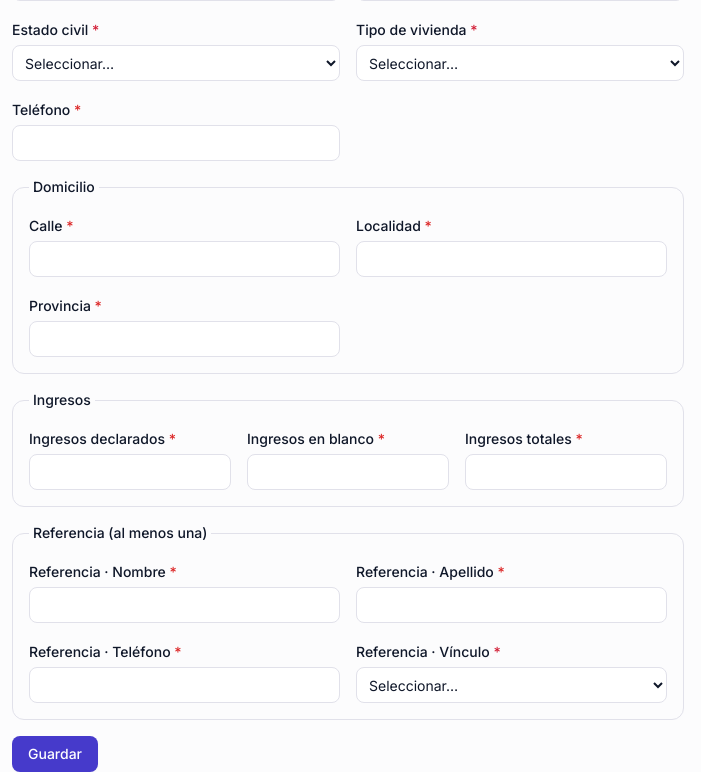
Test: PersonaForm validacion › bloquea el submit si falta estado_civil o domicilio (campos obligatorios §1)
(page scrolled)
Click the button "Guardar" at [55, 754], box [12,736,98,771]
(page scrolled)
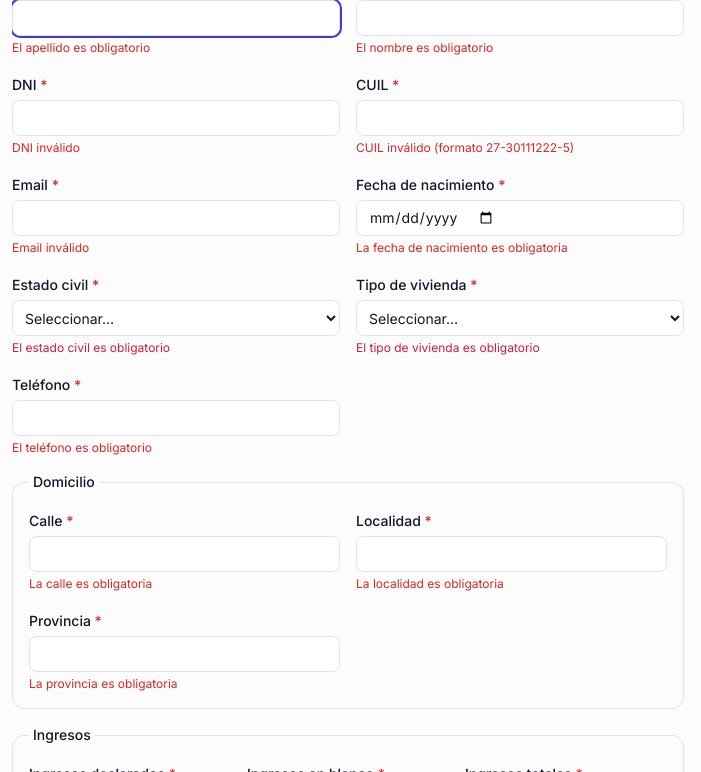
Expected: the text "El estado civil es obligatorio" is shown, [12,340,170,355]
Expected: the text "La localidad es obligatoria" is shown, [356,576,504,591]
